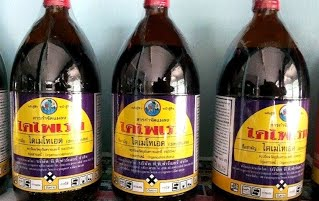Insecticide: (210, 1, 311, 201), (107, 1, 203, 201), (7, 1, 103, 201)
